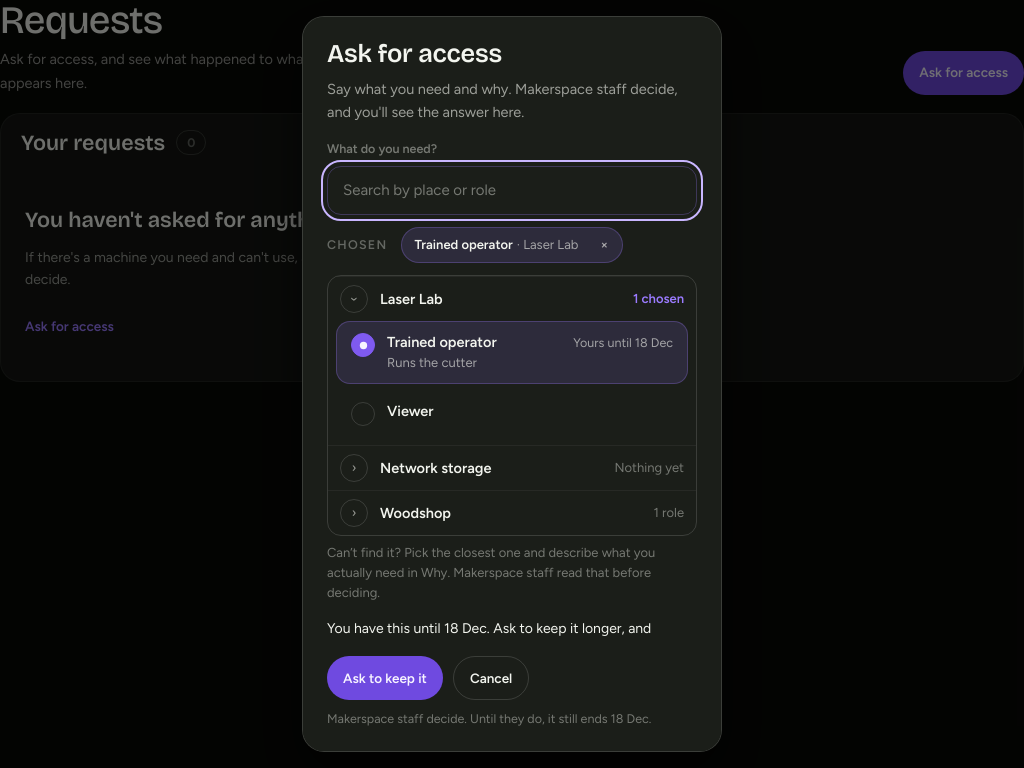
Test: Ask for access · asking to keep a role that ends › sends an extension for the days chosen, and says what it asked for
Click the button "Ask to keep it": (385, 678) [327,656,443,700]
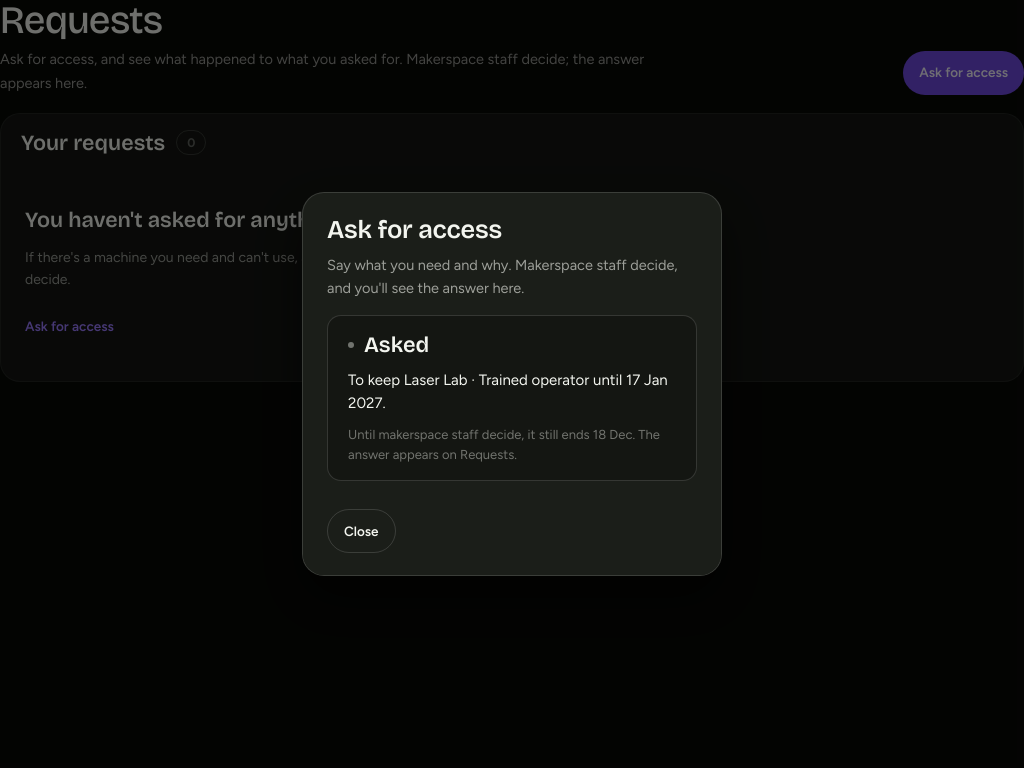
Expected: the text "Asked" is shown, [364,332,429,359]
Expected: the text "To keep Laser Lab · Trained operator until 17 Jan 2027." is shown, [348,369,676,415]
Expected: the text "Until makerspace staff decide, it still ends 18 Dec. The answer appears on Requests." is shown, [348,427,660,462]
